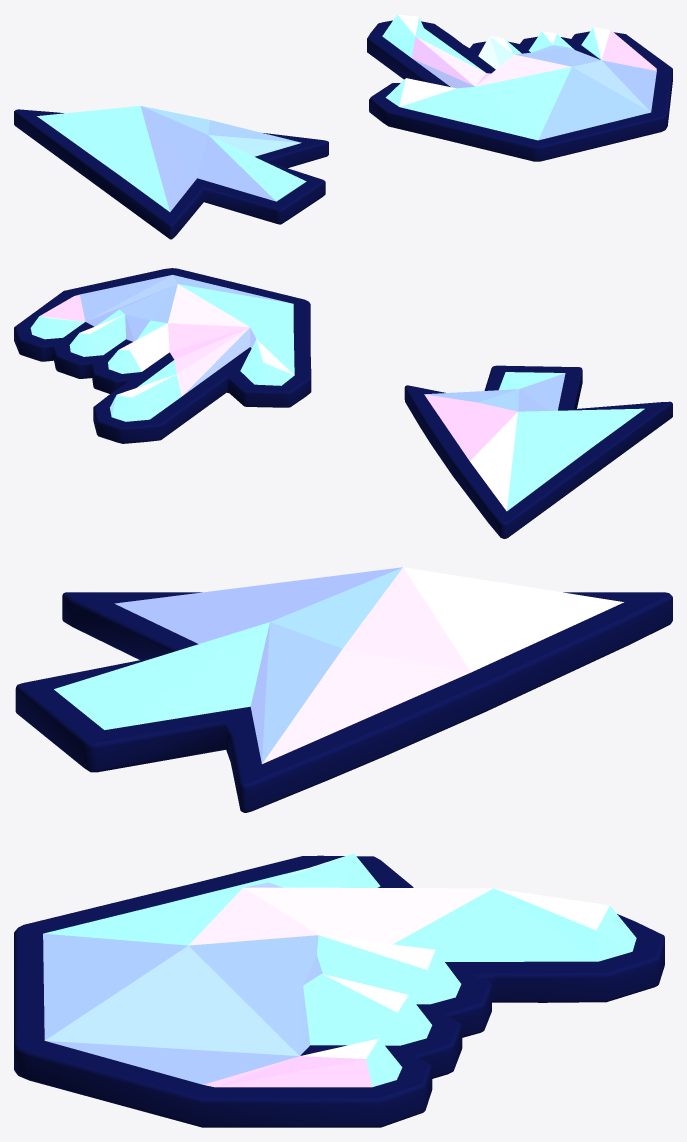
File: prism-glow.glb
The picture shows the model from 3 angles, top to bottom: view 1: azimuth 30°, elevation 25°; view 2: azimuth 150°, elevation 25°; view 3: azimuth 270°, elevation 25°; orthographic projection. The views are drawn at different scales.
Parts seen in each view (by area): view 1: prism_hand_crystal, prism_arrow_crystal, prism_hand_rim, prism_arrow_rim; view 2: prism_hand_crystal, prism_arrow_crystal, prism_hand_rim, prism_arrow_rim; view 3: prism_hand_crystal, prism_arrow_crystal, prism_hand_rim, prism_arrow_rim.
Part boxes in pixels (left/top/right/bottom): prism_hand_crystal: left=382, top=14, right=656, bottom=140; prism_arrow_crystal: left=37, top=105, right=306, bottom=211; prism_hand_rim: left=367, top=20, right=672, bottom=161; prism_arrow_rim: left=14, top=109, right=328, bottom=239; prism_hand_crystal: left=30, top=275, right=294, bottom=421; prism_arrow_crystal: left=424, top=372, right=644, bottom=511; prism_hand_rim: left=14, top=268, right=311, bottom=443; prism_arrow_rim: left=404, top=365, right=672, bottom=538; prism_hand_crystal: left=43, top=853, right=636, bottom=1087; prism_arrow_crystal: left=54, top=567, right=623, bottom=763; prism_hand_rim: left=14, top=855, right=664, bottom=1127; prism_arrow_rim: left=15, top=592, right=672, bottom=812.
Bounding box in the file's own units: 1.49 × 0.148 × 0.816.
